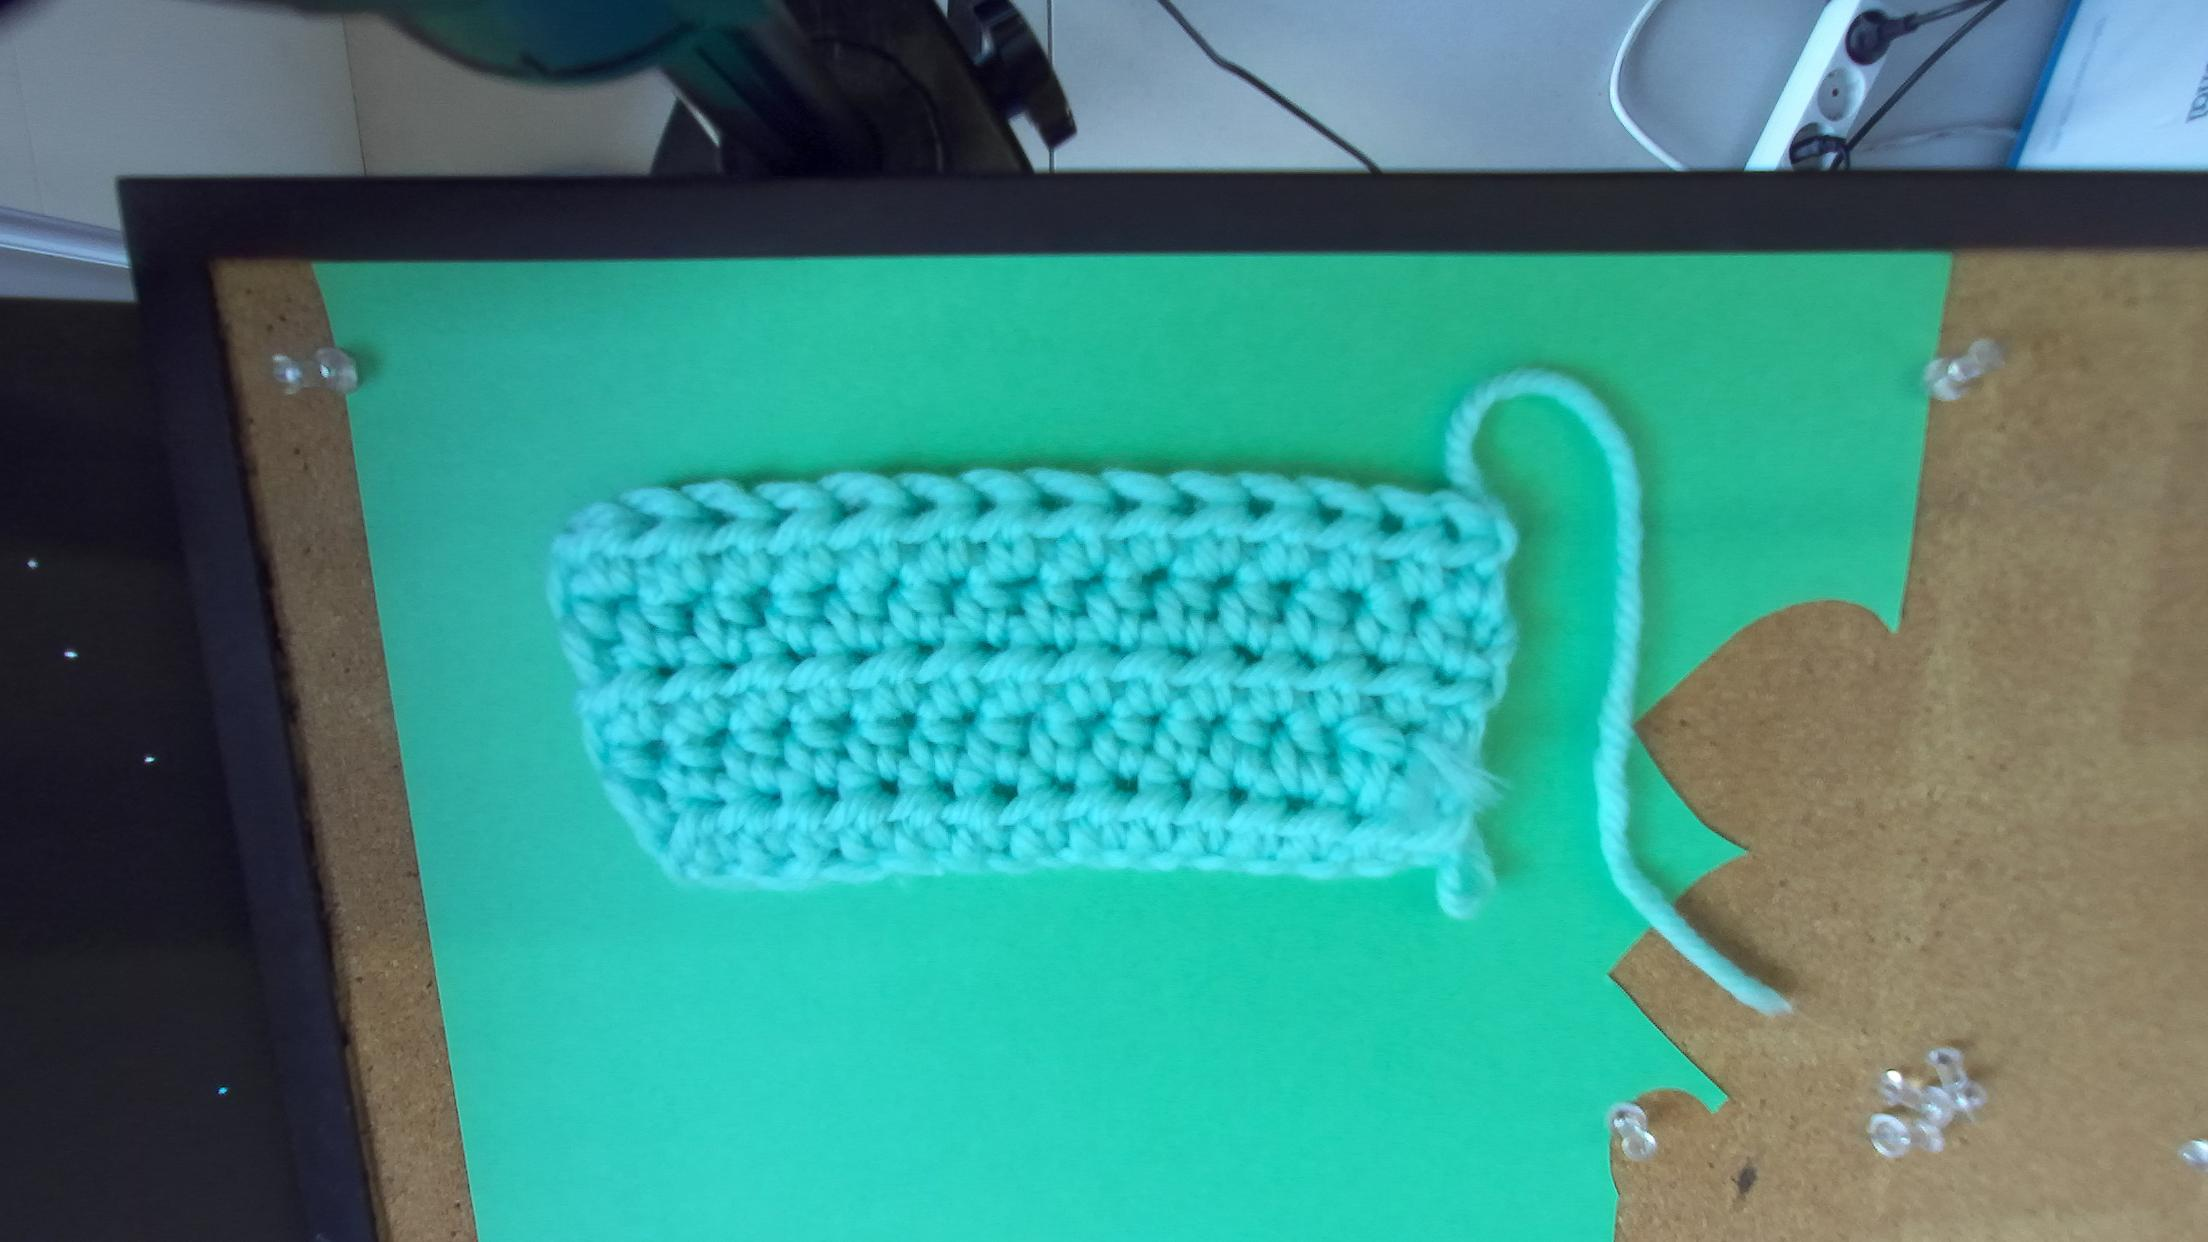hole: (625, 513, 669, 537), (695, 505, 739, 529), (1168, 490, 1209, 516), (830, 499, 872, 523), (1312, 499, 1345, 528), (1106, 490, 1142, 516), (1034, 491, 1074, 514), (1378, 508, 1407, 535), (1245, 496, 1275, 522), (1439, 513, 1463, 544), (766, 505, 799, 526), (904, 494, 937, 514), (975, 490, 998, 517)
swatch: (544, 470, 1516, 893)
